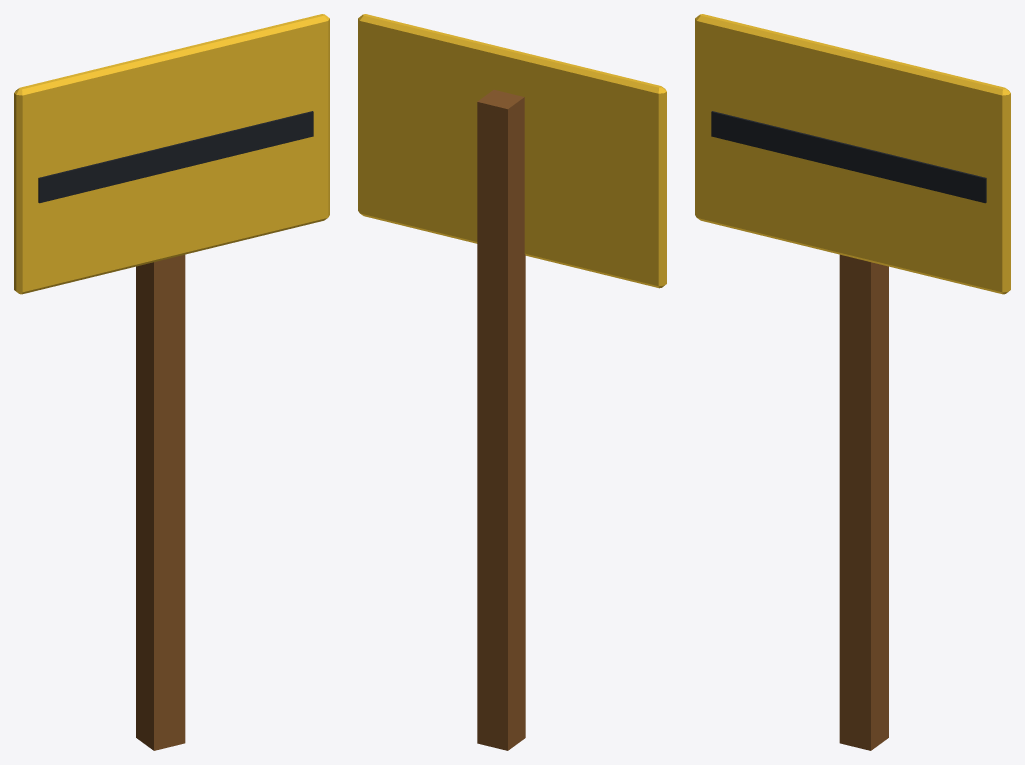
The model's file is sign_post.glb.
The picture shows the model from 3 angles, left to right: view 1: azimuth 30°, elevation 25°; view 2: azimuth 150°, elevation 25°; view 3: azimuth 330°, elevation 25°; orthographic projection. The views are drawn at different scales.
Parts seen in each view (by area): view 1: sign_post; view 2: sign_post; view 3: sign_post.
Boxes of the visible parts, left/top/right/bottom form: sign_post: left=14, top=14, right=329, bottom=750; sign_post: left=358, top=14, right=666, bottom=750; sign_post: left=695, top=14, right=1010, bottom=750.
Bounding box in the file's own units: 0.8 × 1.7 × 0.1105.
